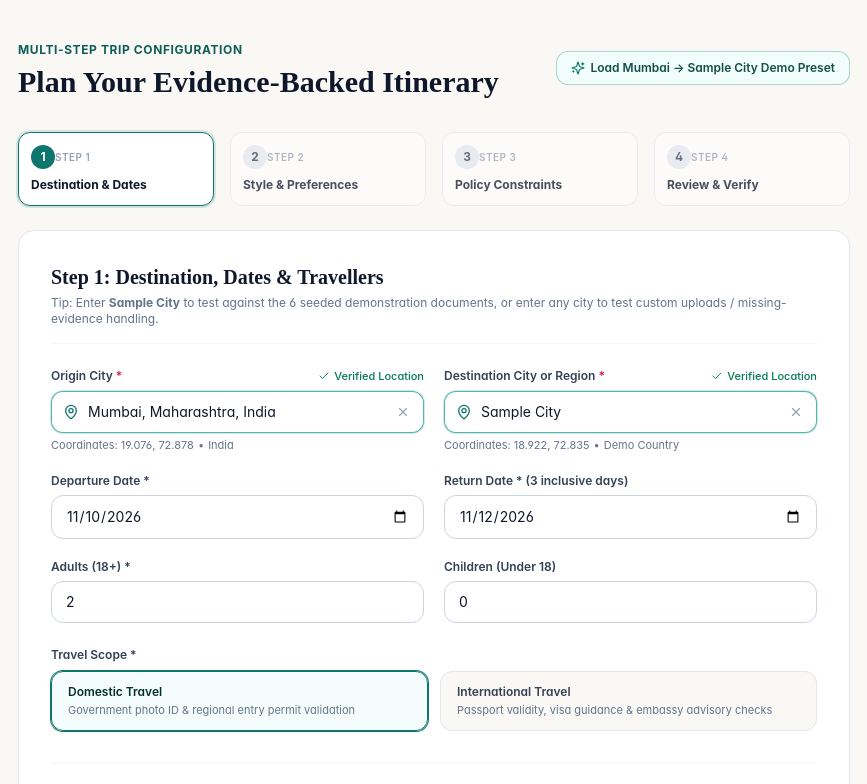
Test: TripWise AI Frontend Components & Validation › validates that return date cannot precede departure date in TripWizardPage
The image size is (867, 784).
Type "2026-11-20" into the date field labelled "Departure Date *" at (238, 517), box [51,495,424,539]
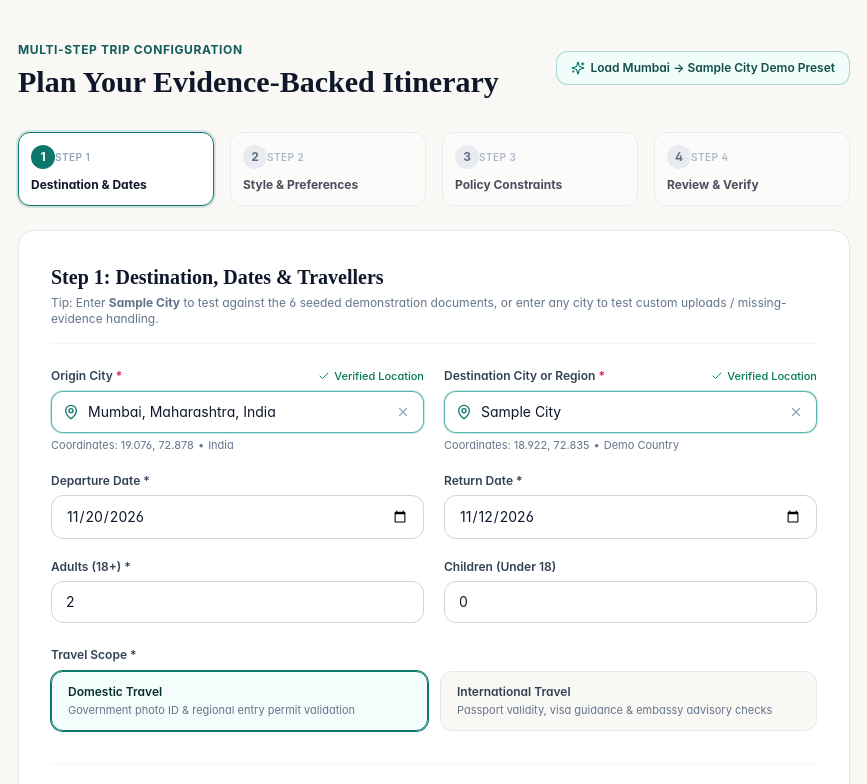
Type "2026-11-10" into the date field labelled "Return Date *" at (630, 517), box [444,495,817,539]
(page scrolled)
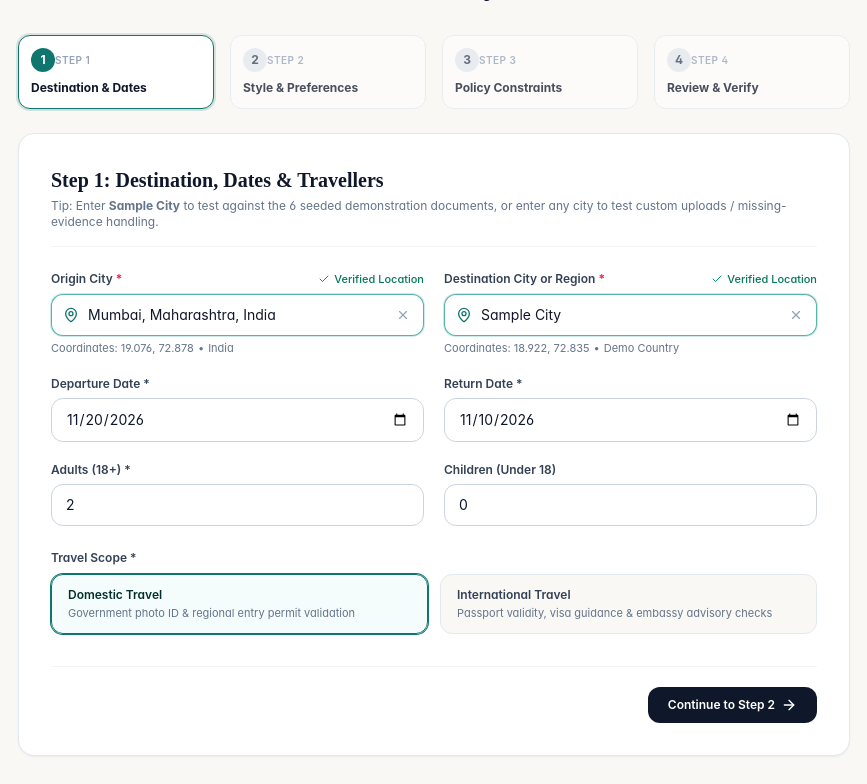
Click the button "Continue to Step 2" at (732, 705), box [648,687,817,723]
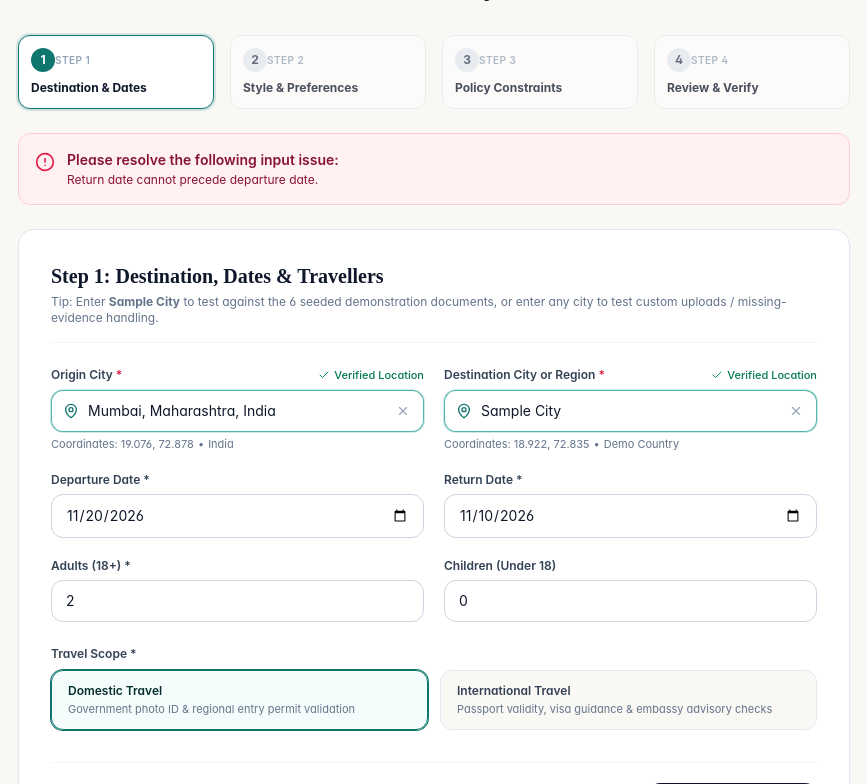
Result: the message shows "Return date cannot precede departure date" at [67,172,318,187]
